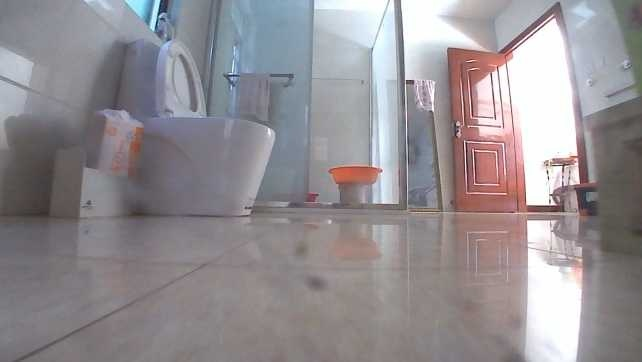door_anno: (444, 45, 526, 215)
toilet: (114, 34, 275, 216)
